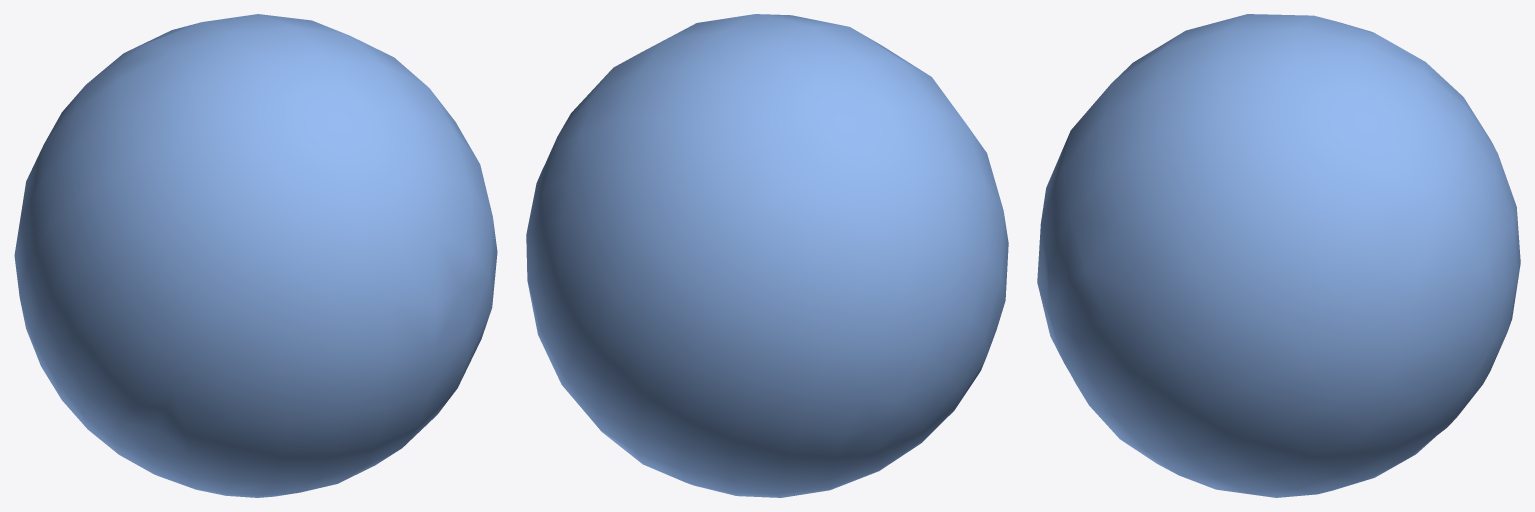
The picture shows the model from 3 angles, left to right: view 1: azimuth 30°, elevation 25°; view 2: azimuth 150°, elevation 25°; view 3: azimuth 270°, elevation 25°; orthographic projection.
Visible parts, largest first — view 1: PM3D_Sphere3D_2; view 2: PM3D_Sphere3D_2; view 3: PM3D_Sphere3D_2.
Boxes of the visible parts, x1=… form: PM3D_Sphere3D_2: x1=14, y1=14, x2=497, y2=497; PM3D_Sphere3D_2: x1=526, y1=14, x2=1008, y2=497; PM3D_Sphere3D_2: x1=1037, y1=14, x2=1520, y2=497.
Bounding box in the file's own units: 2.55 × 2.55 × 2.55.
